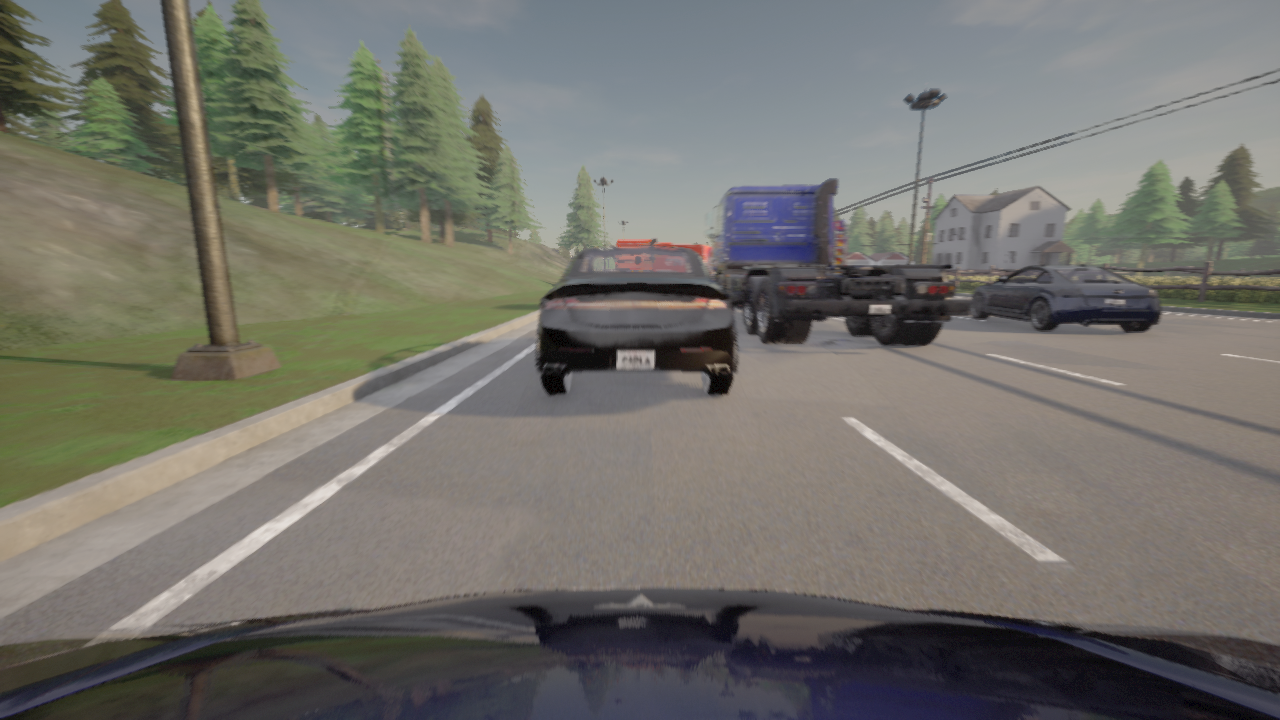cyclist: (0, 588, 1279, 719), (704, 179, 970, 345), (535, 245, 737, 395), (970, 265, 1160, 332), (656, 244, 712, 275), (830, 220, 846, 274), (616, 238, 656, 245), (737, 306, 740, 308)
